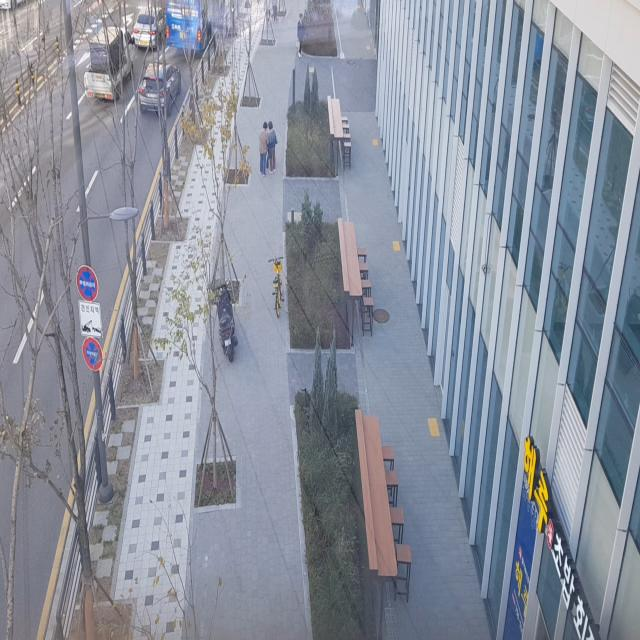Bus: (162, 0, 229, 57)
Car: (133, 46, 188, 126), (130, 0, 173, 56)
Truck: (82, 23, 132, 103)
